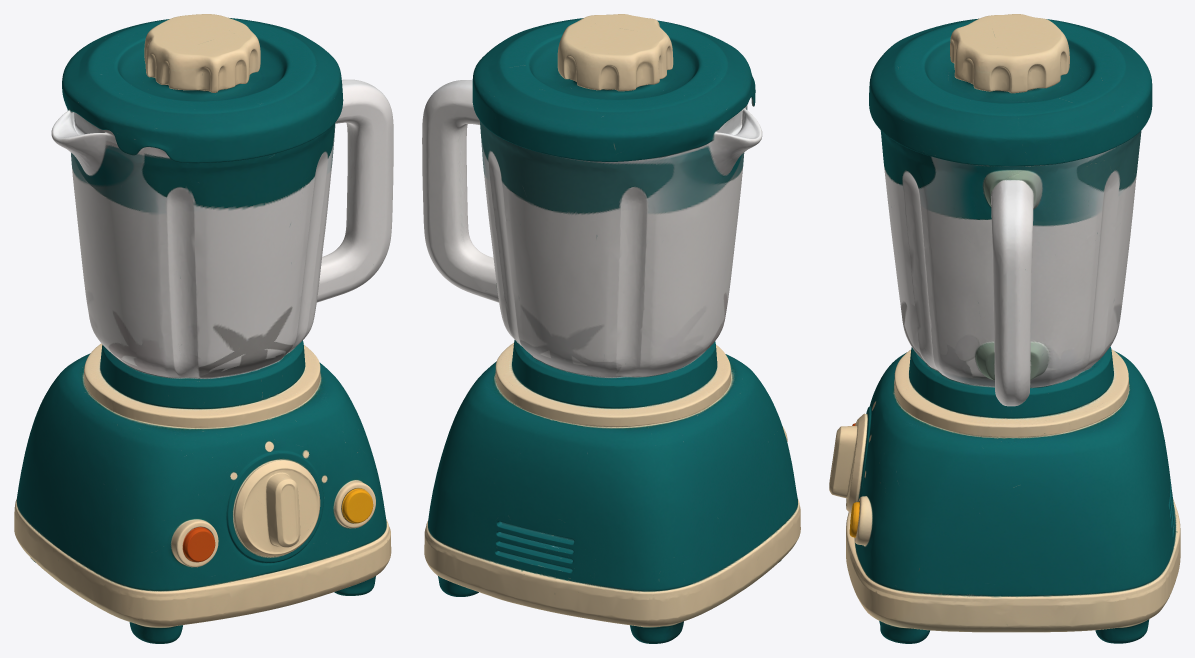
File: connector_object.glb
3 renders of one model, left to right at view 1: azimuth 30°, elevation 25°; view 2: azimuth 150°, elevation 25°; view 3: azimuth 270°, elevation 25°, orthographic. The views are drawn at different scales.
Bounding box in the file's own units: 1.23 × 1.89 × 1.09.
1 material, 1 textured.
